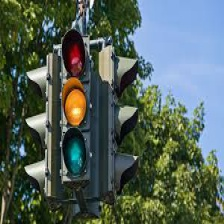semaforo: (51, 35, 100, 202)
